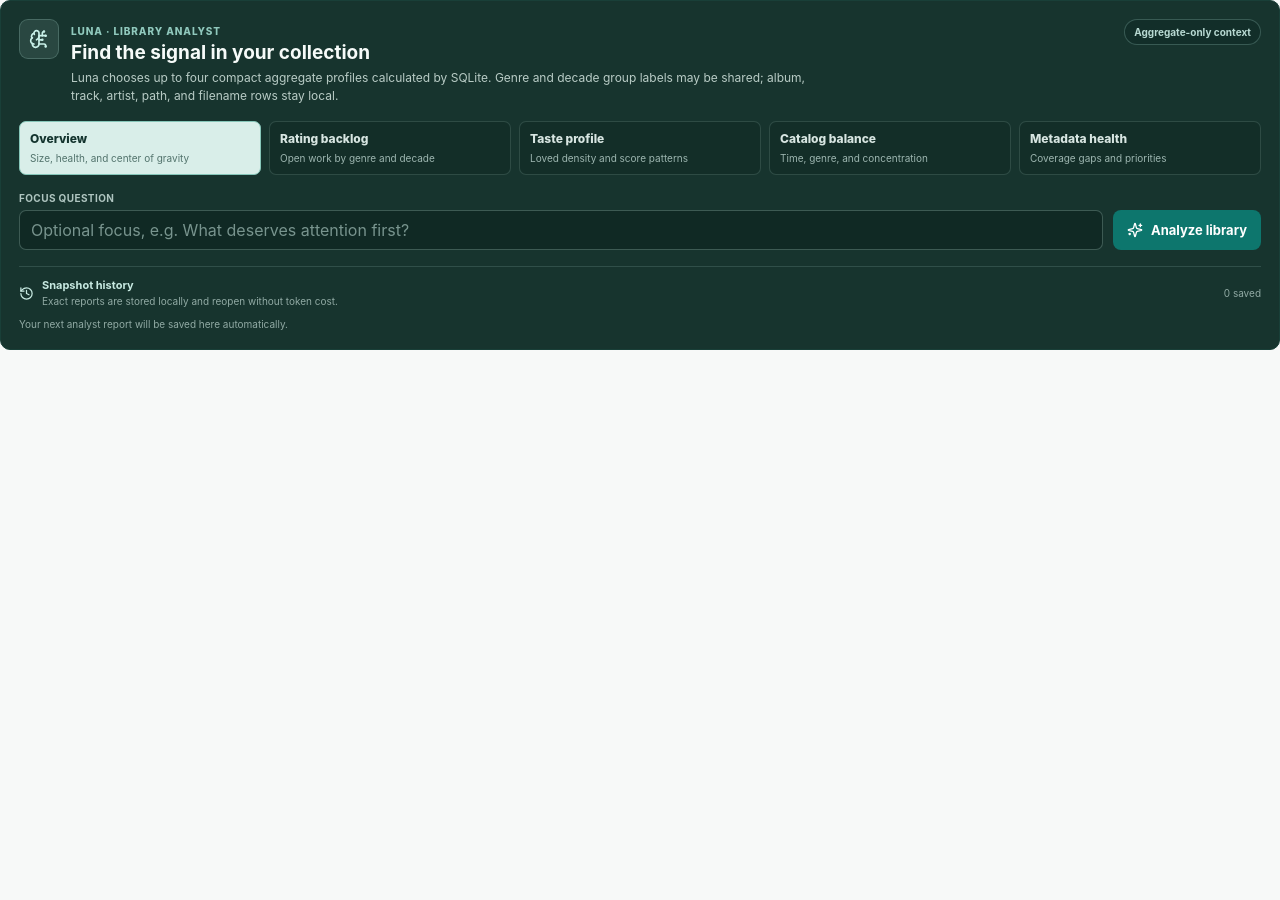
it: LibraryAnalystPanel › sends the selected lens and renders a typed aggregate-only report
This screenshot has width=1280, height=900.
Click the button "Rating backlog Open work by genre and decade" at {"x": 390, "y": 148}, box [269, 121, 511, 175]
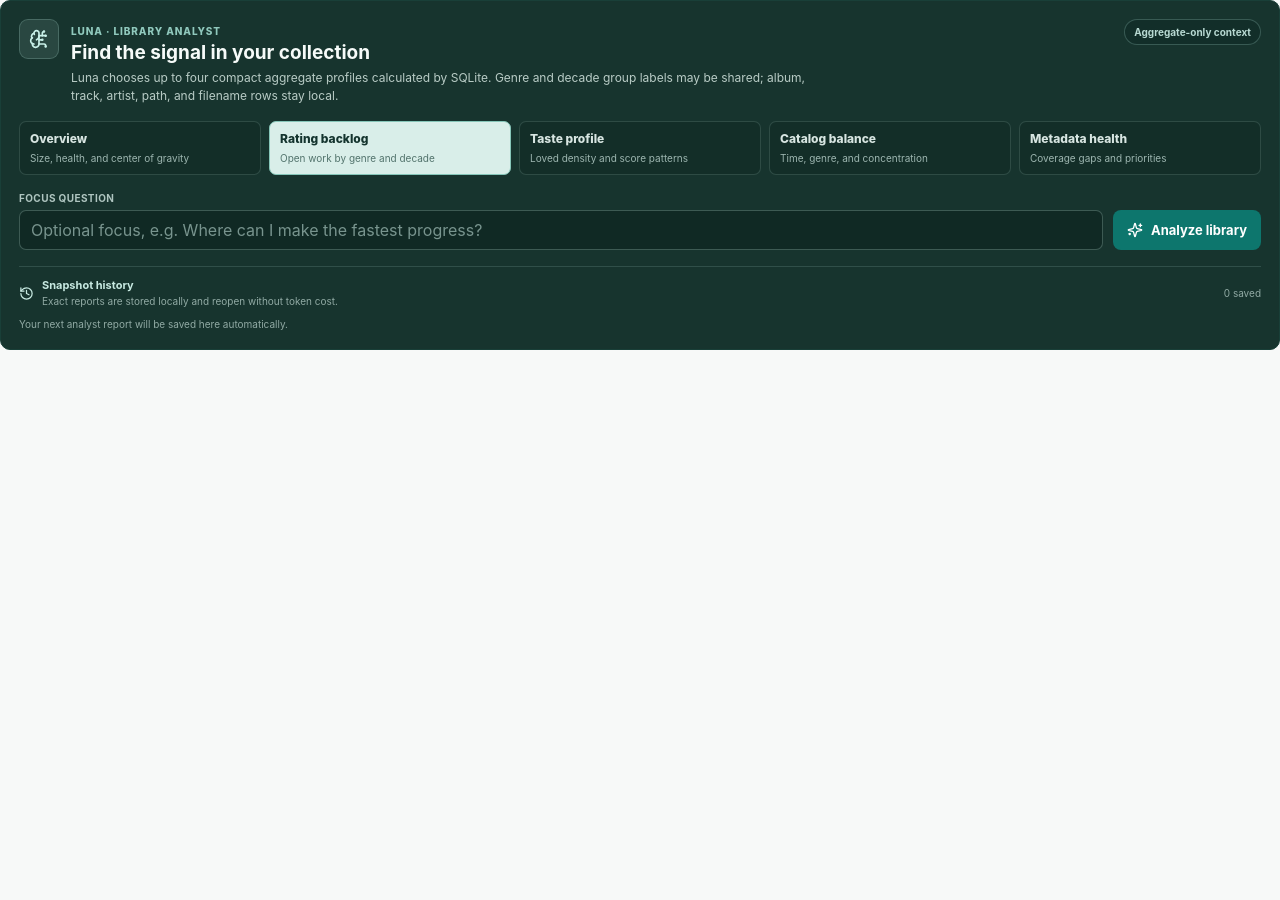
Click the field labelled "Focus question" at {"x": 561, "y": 230}, box [19, 210, 1103, 250]
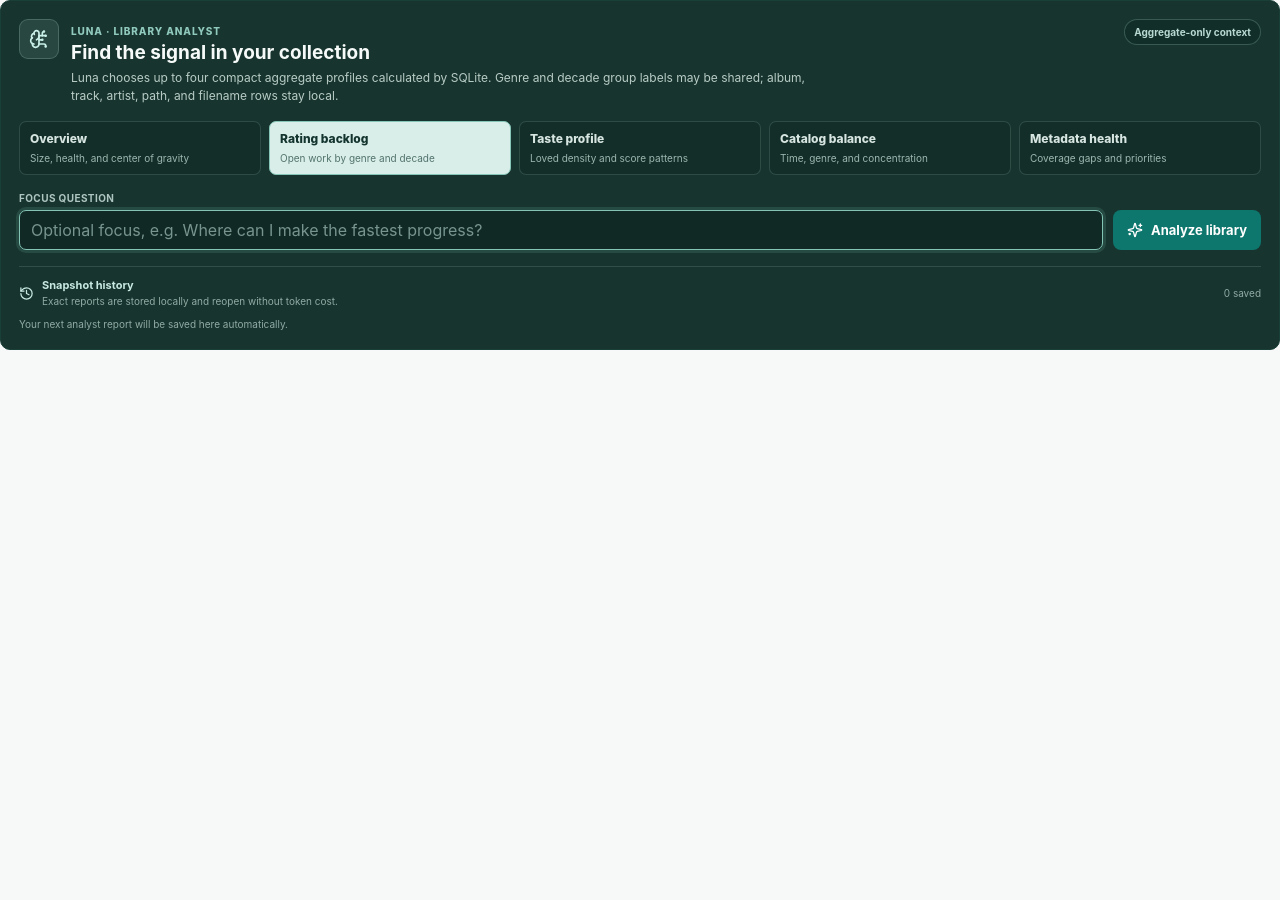
Type keys "Where should I start?"
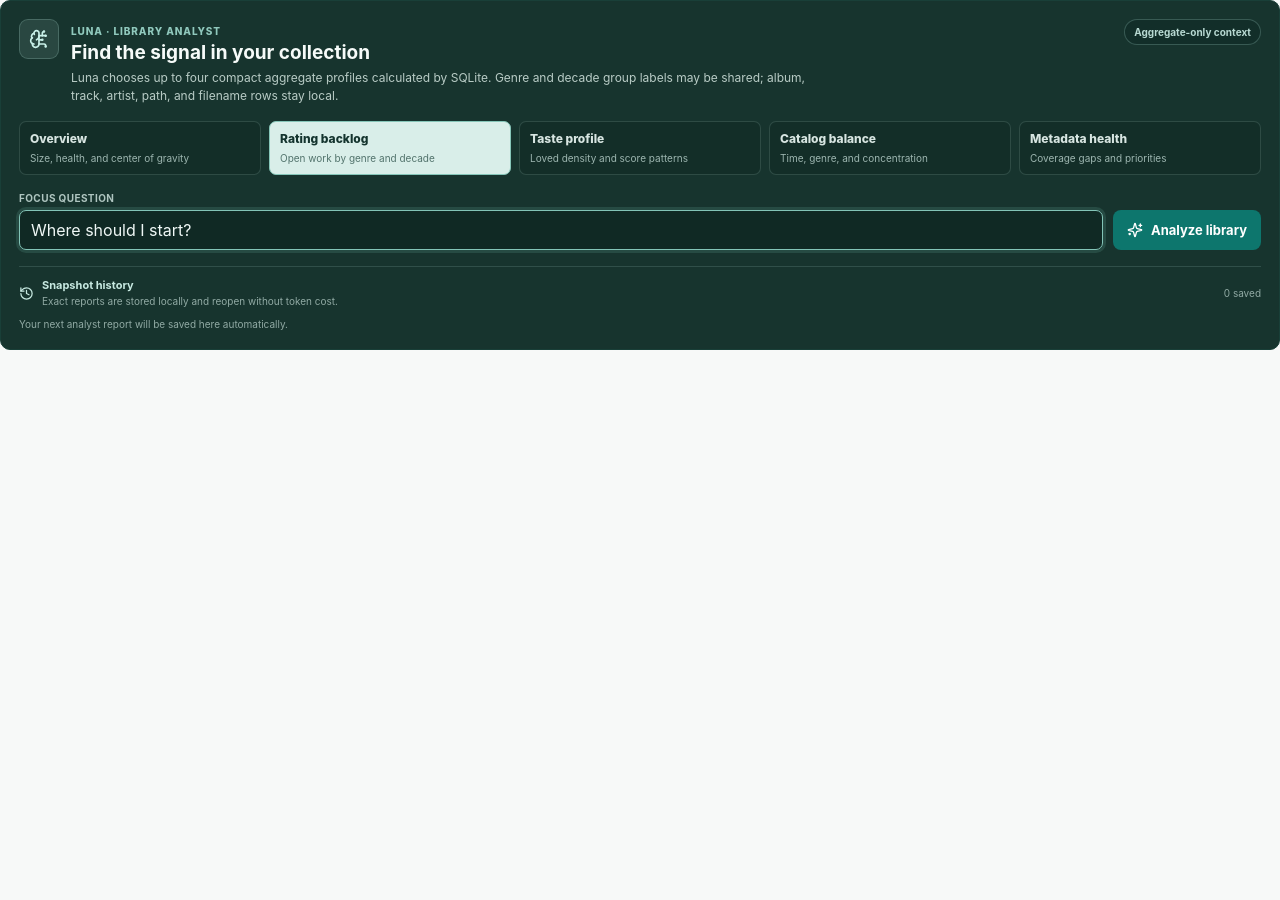
Click the button "Analyze library" at {"x": 1187, "y": 230}, box [1113, 210, 1261, 250]
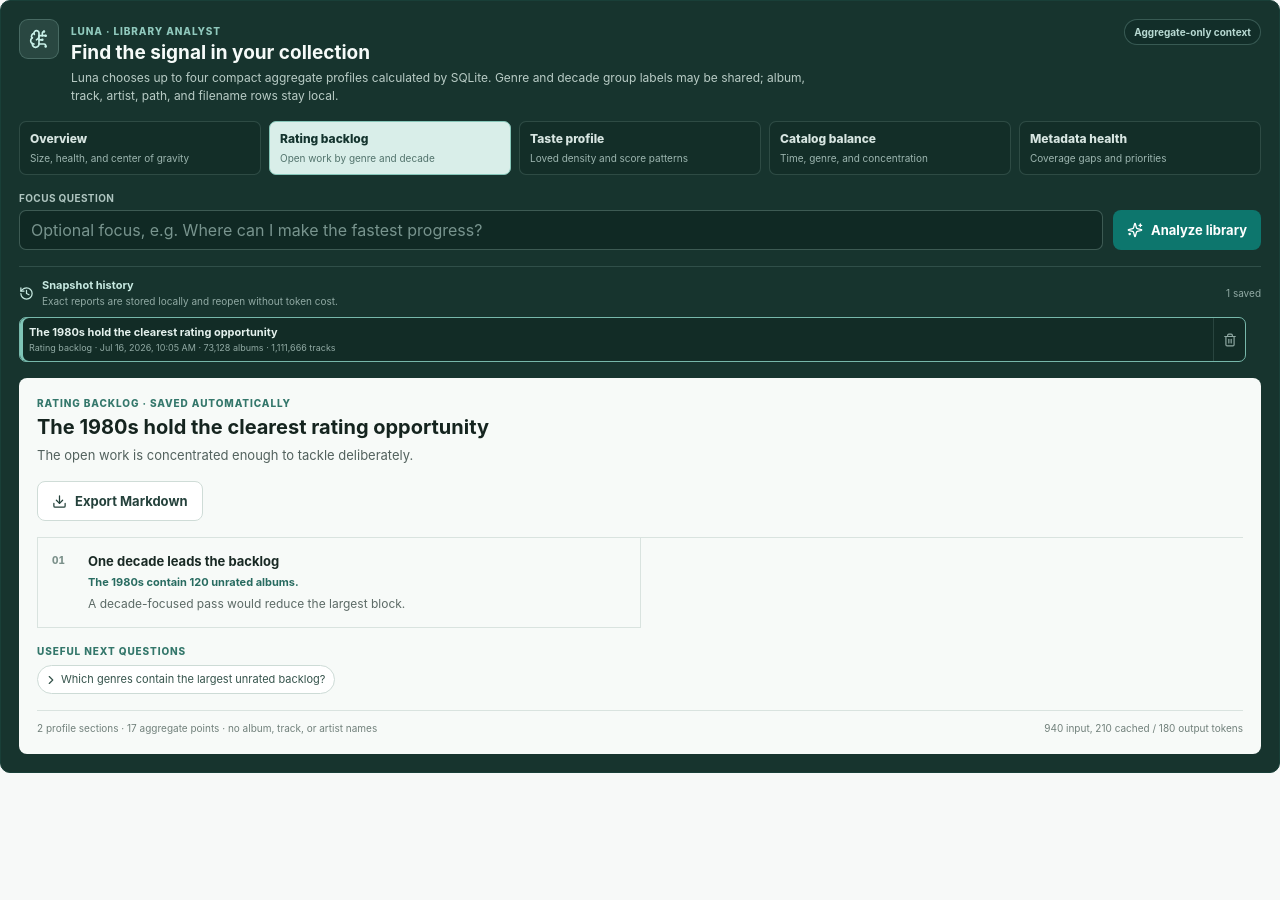
expect the field labelled "Focus question" is empty: met, box [19, 210, 1103, 250]
expect the heading "The 1980s hold the clearest rating opportunity" is shown: met, box [37, 415, 489, 439]
expect the text "17 aggregate points" is shown: met, box [37, 721, 377, 736]
